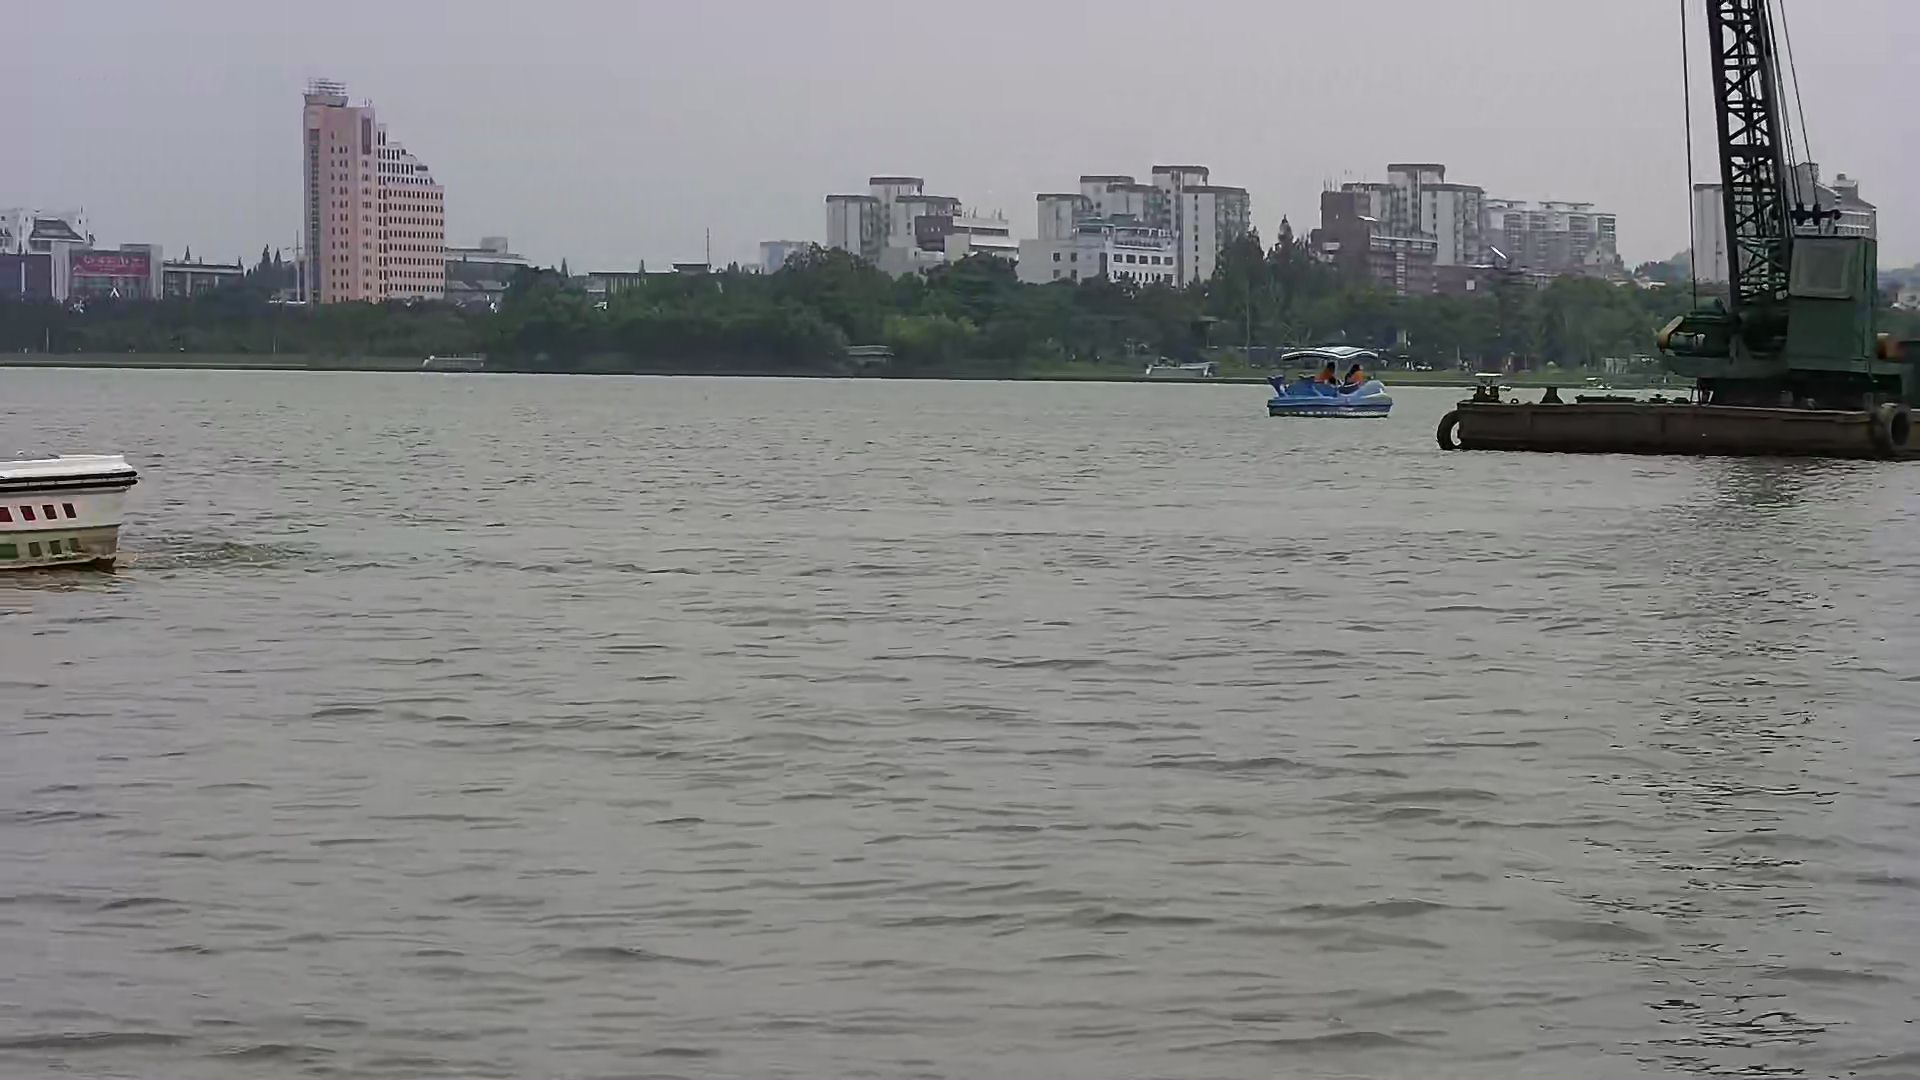boat: (1263, 338, 1391, 417)
harbor: (1453, 4, 1913, 460)
